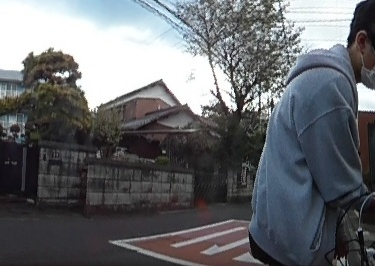person: (246, 0, 375, 266)
